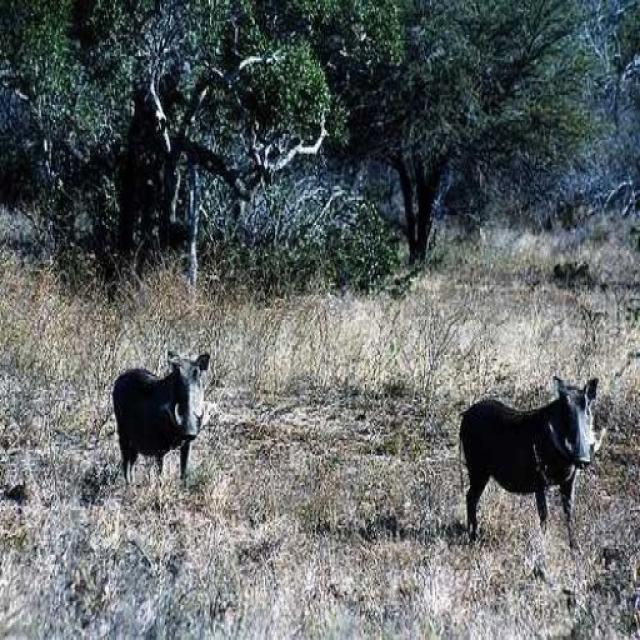pig: (420, 348, 618, 532), (89, 309, 228, 500)
